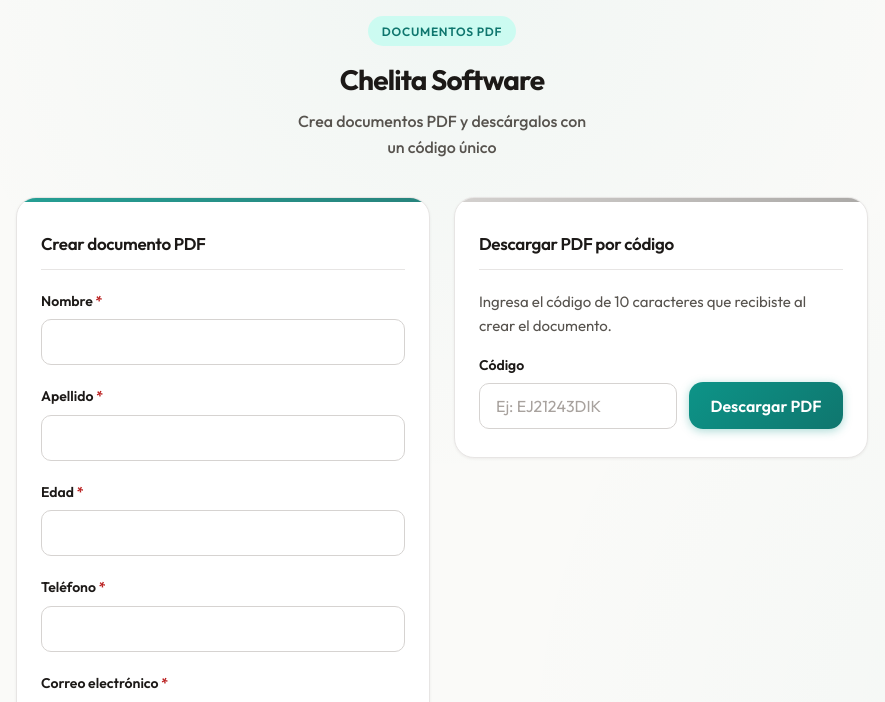
App › validación descarga: código vacío muestra error
Click the button "Descargar PDF" at (766, 406), box [689,382,843,429]
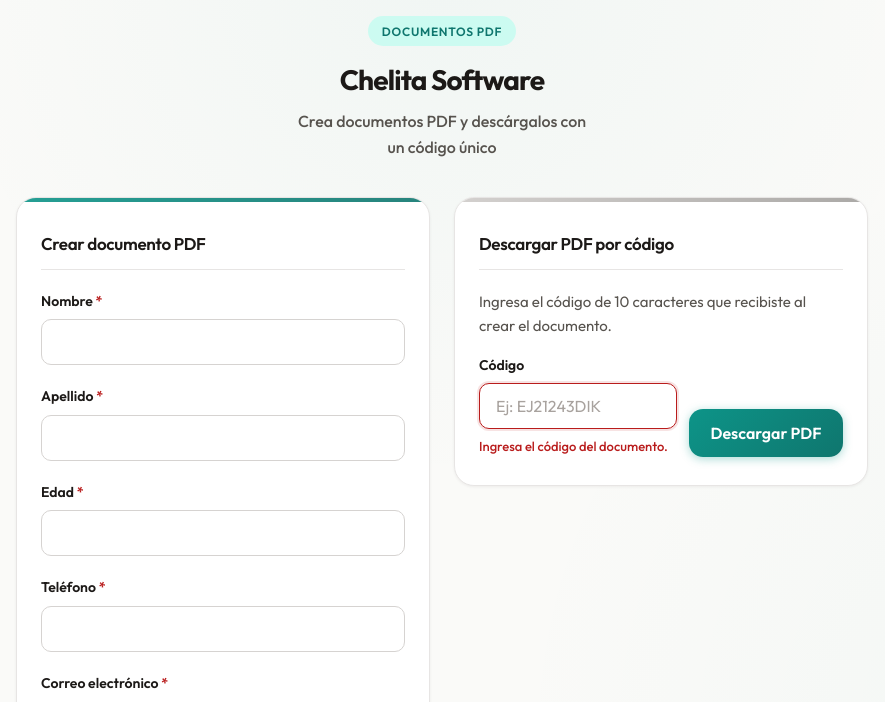
Expected: the text "Ingresa el código del documento." is shown, [479,436,677,456]
